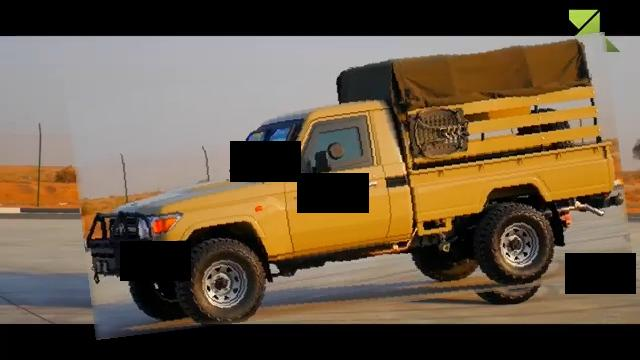MIL_HMMWV: (73, 48, 628, 324)
